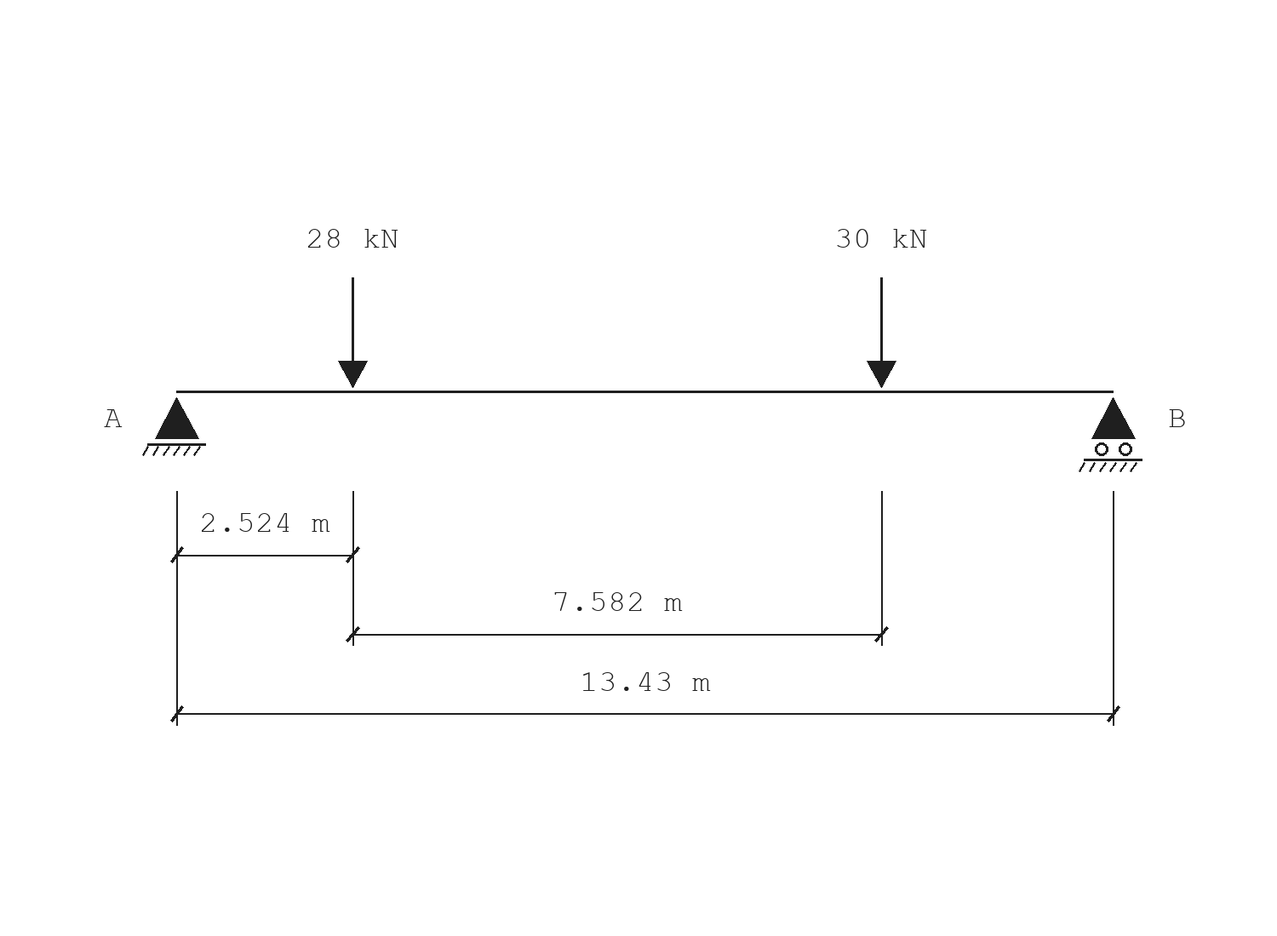pin_support: (142, 397, 206, 456)
point_load: (338, 277, 368, 388), (867, 277, 896, 388)
roller_support: (1079, 397, 1142, 472)
